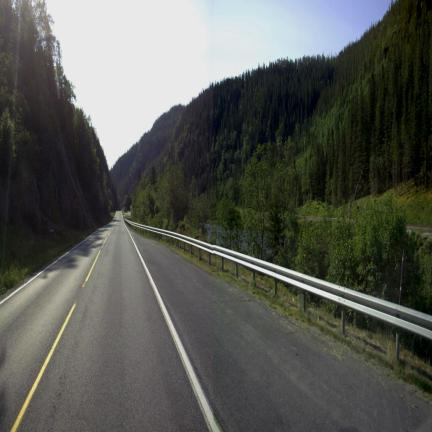Road: (0, 213, 431, 430)
